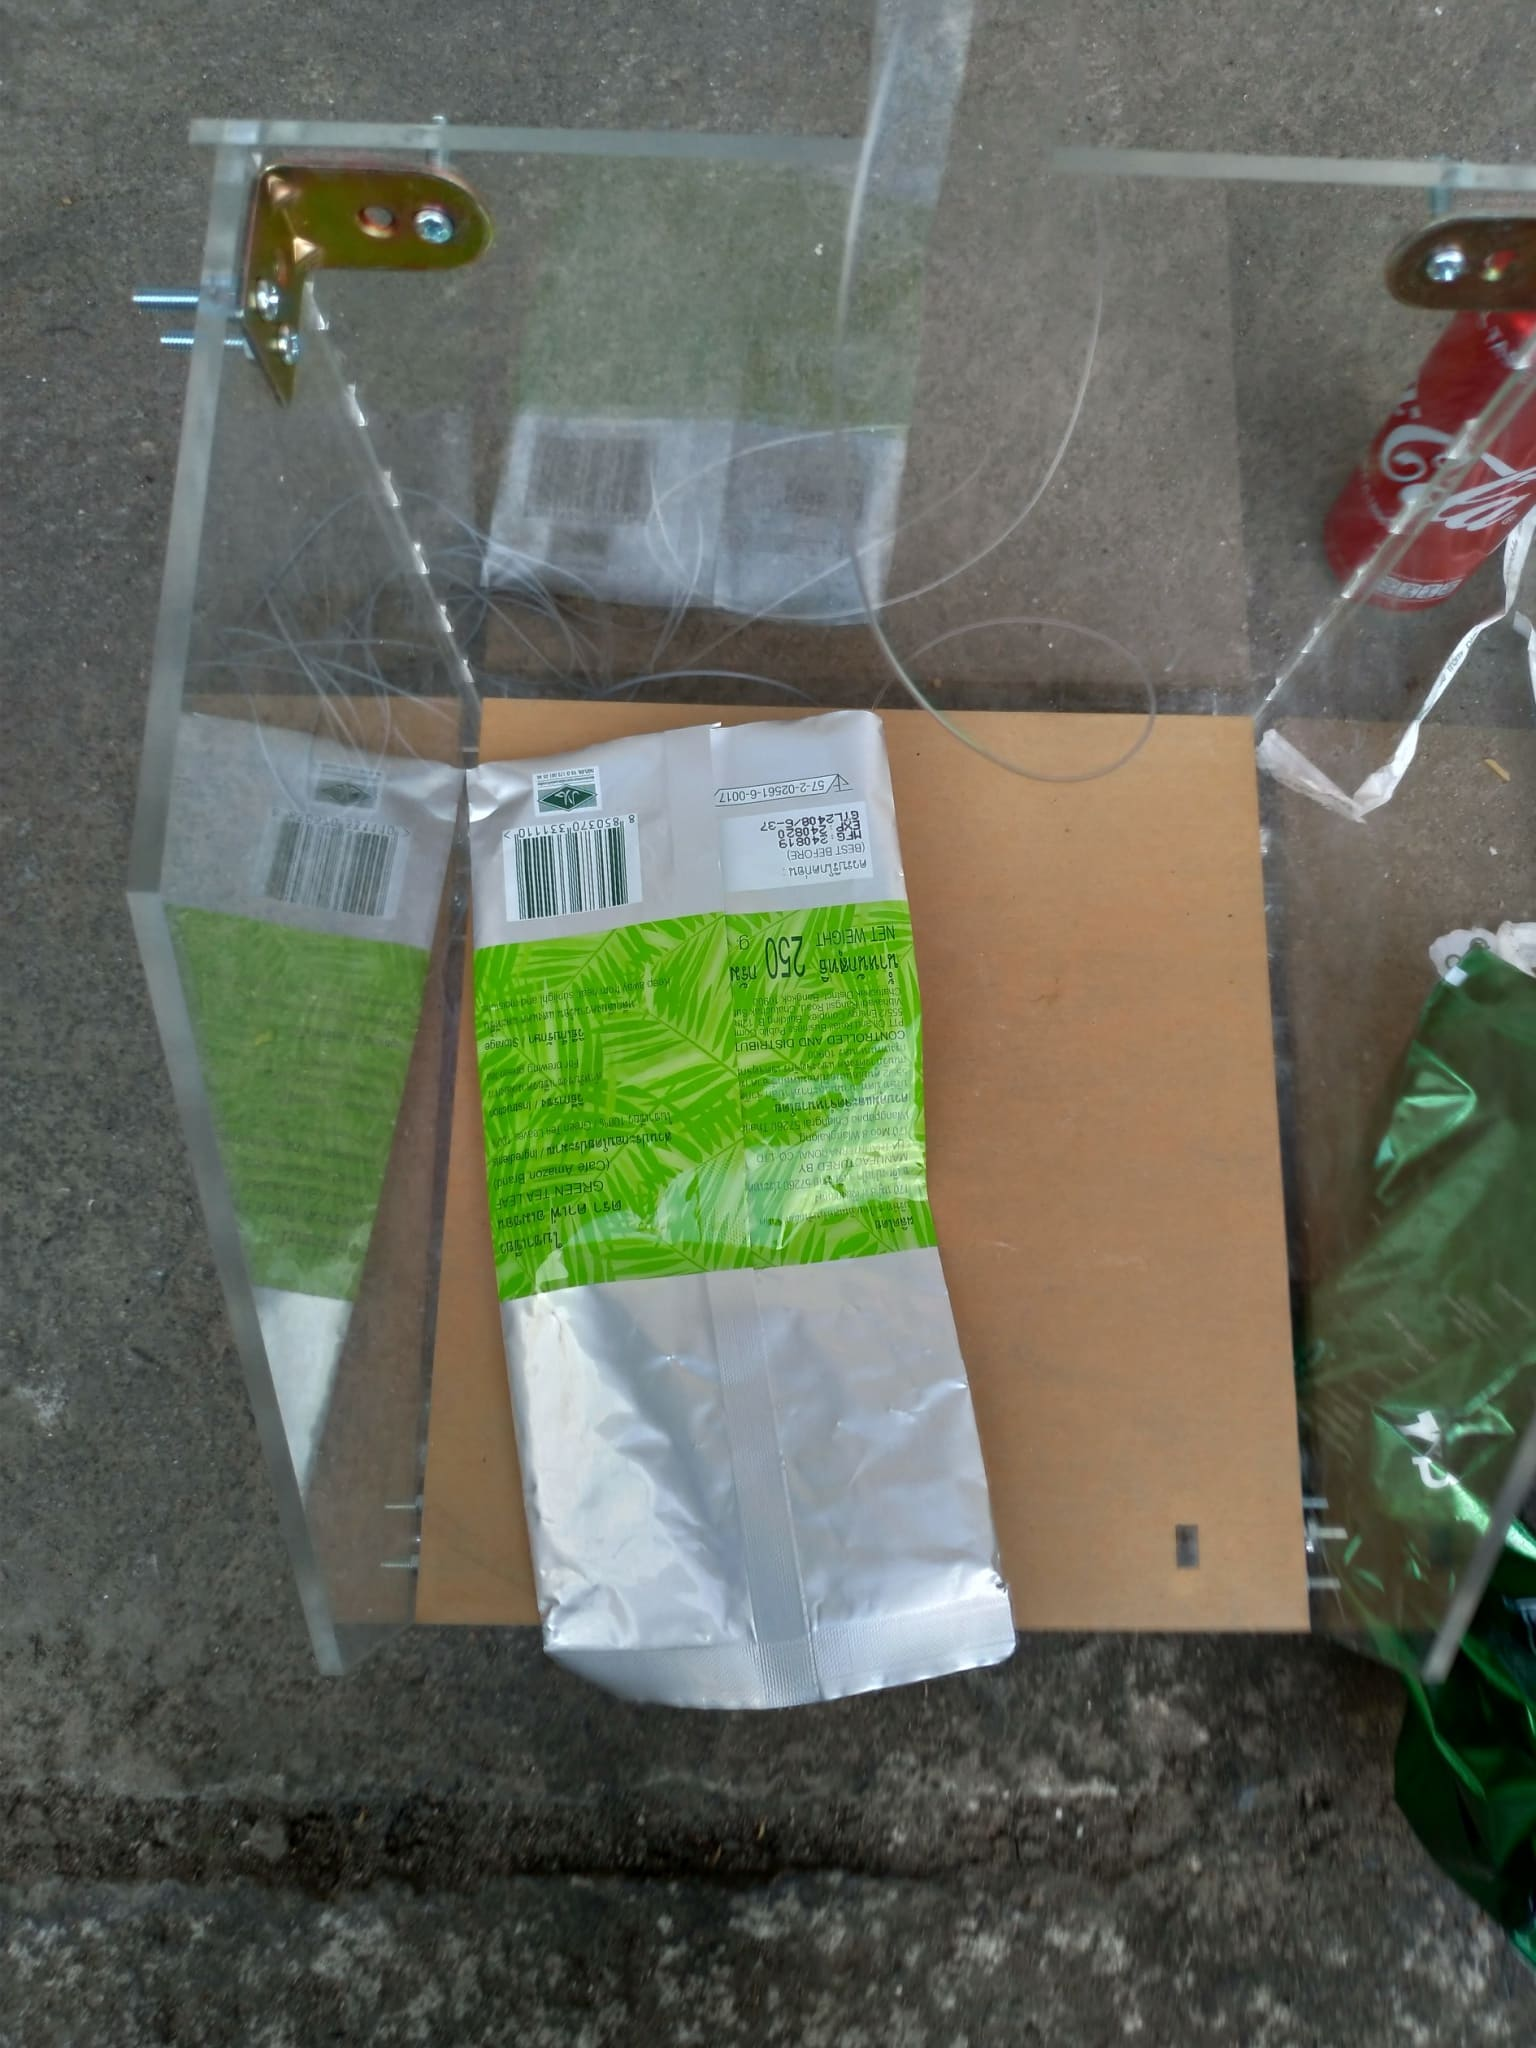AlCan: (1333, 314, 1534, 608)
Others: (453, 714, 1047, 1727), (1291, 934, 1536, 1887)
